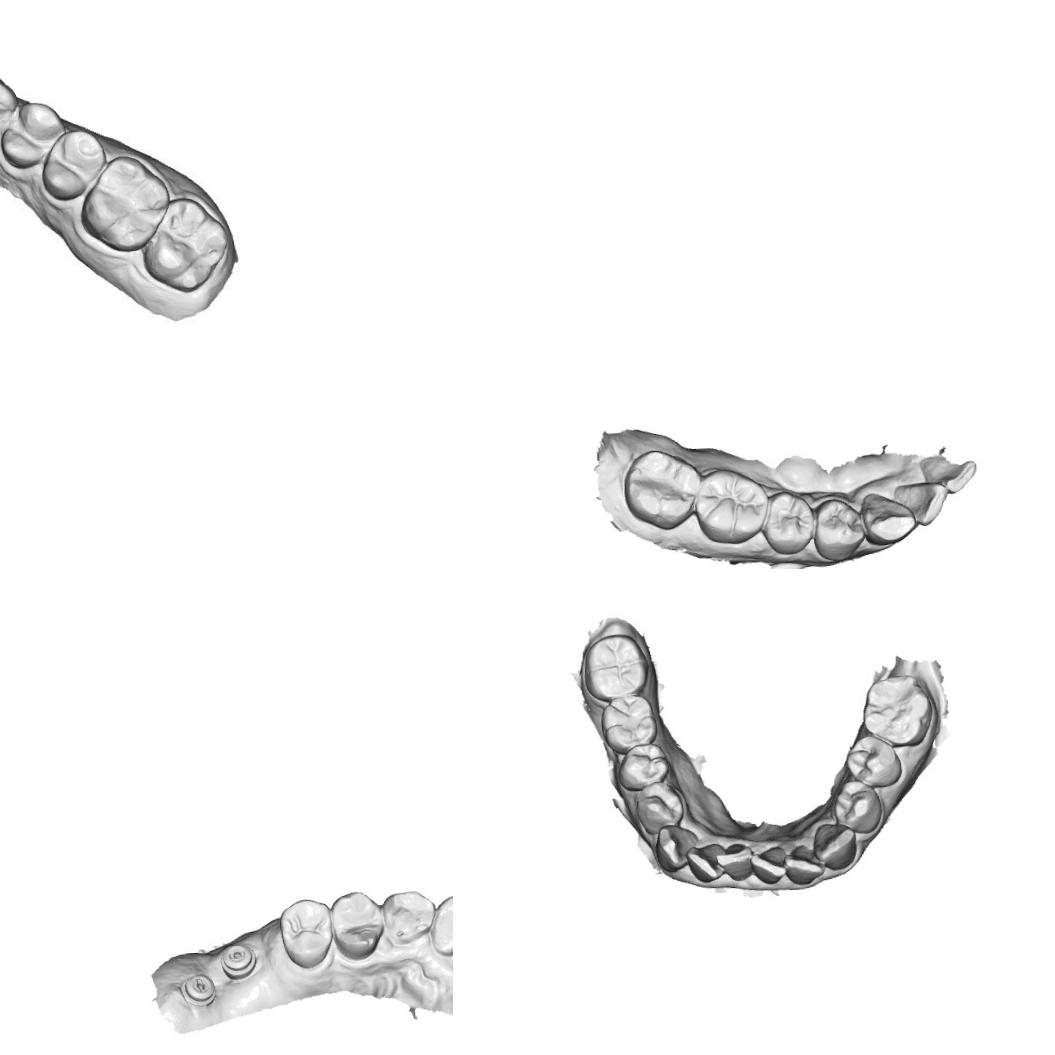canine: (381, 887, 438, 950), (858, 488, 917, 547), (652, 822, 700, 874), (810, 820, 858, 871), (0, 69, 20, 141)
implant_minus: (218, 940, 258, 981), (178, 972, 218, 1007)
incisor: (917, 448, 978, 496), (892, 478, 950, 528), (780, 841, 827, 887), (683, 840, 727, 884), (425, 891, 453, 957), (713, 840, 754, 883), (748, 843, 788, 886)
molar: (75, 150, 180, 256), (137, 192, 236, 295), (620, 446, 703, 532), (690, 464, 768, 546), (858, 672, 935, 750), (580, 630, 650, 702), (598, 692, 660, 756)
premolar: (37, 127, 107, 204), (0, 99, 67, 171), (276, 895, 336, 971), (328, 888, 386, 961), (758, 488, 816, 556), (810, 496, 868, 562), (842, 732, 902, 790), (830, 777, 886, 836), (631, 778, 686, 836), (614, 742, 672, 792)
